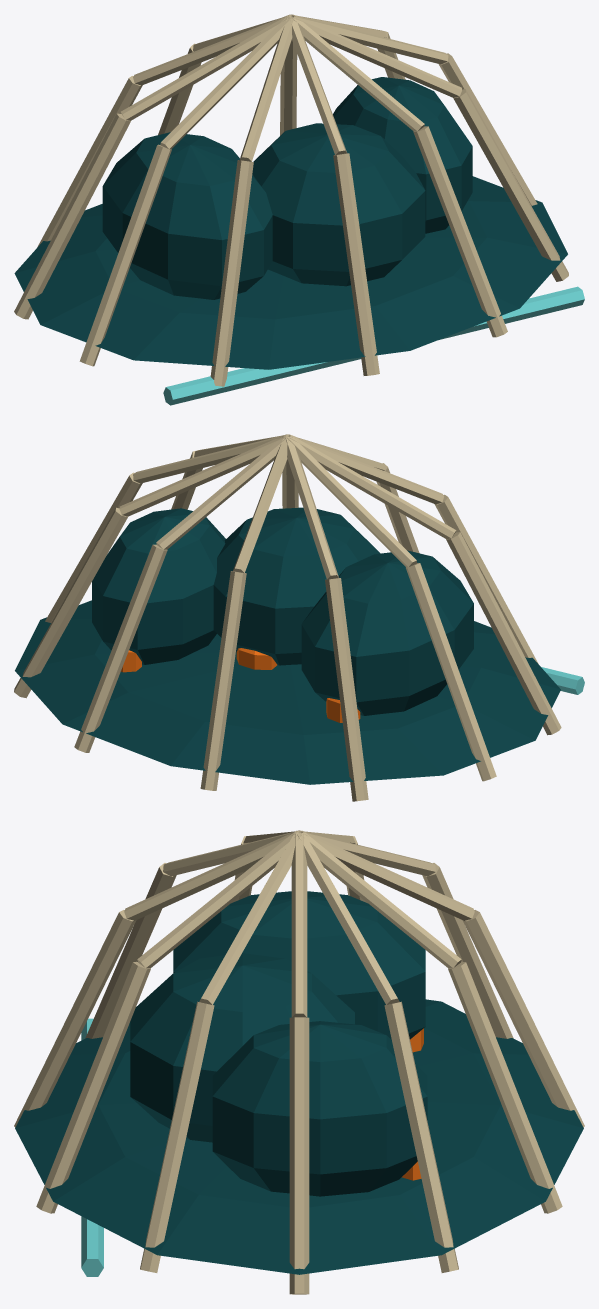
File: res_shelter_cluster_a.obj
3 views of the same model, one above another, from view 1: azimuth 30°, elevation 25°; view 2: azimuth 150°, elevation 25°; view 3: azimuth 270°, elevation 25° (orthographic). The views are drawn at different scales.
Parts seen in each view (by area): view 1: lattice, foundation, chamber_1, chamber_0, chamber_2, service_channel; view 2: foundation, lattice, chamber_0, chamber_2, chamber_1, occupancy_1, service_channel; view 3: lattice, foundation, chamber_2, chamber_1, chamber_0, service_channel.
Part boxes in pixels (x1,y1,x2,y2): lattice: (14,14,568,386); foundation: (14,176,567,369); chamber_1: (252,123,425,286); chamber_0: (102,132,272,299); chamber_2: (333,77,472,233); service_channel: (163,286,584,405); foundation: (15,600,560,784); lattice: (14,434,561,801); chamber_0: (301,550,473,715); chamber_2: (92,508,225,664); chamber_1: (213,507,380,665); occupancy_1: (236,648,277,669); service_channel: (541,667,584,694); lattice: (14,830,584,1294); foundation: (15,999,583,1274); chamber_2: (212,1021,427,1196); chamber_1: (130,953,354,1142); chamber_0: (173,891,425,1039); service_channel: (81,1018,103,1276).
Bounding box in the file's own units: 6.72 × 3.51 × 5.52.
